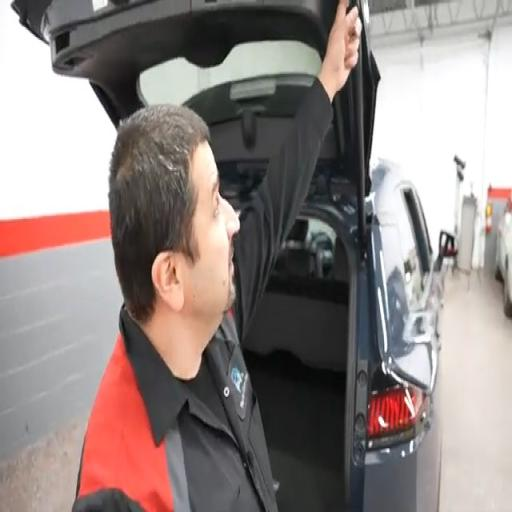bumper: (364, 419, 441, 511)
door: (372, 183, 442, 393)
hood: (12, 0, 338, 125)
side_mirror: (435, 231, 457, 271), (439, 231, 457, 260)
taillight: (368, 384, 429, 449)
trunk: (244, 242, 349, 511)
window: (397, 187, 431, 308)
windshield: (138, 40, 321, 105)
